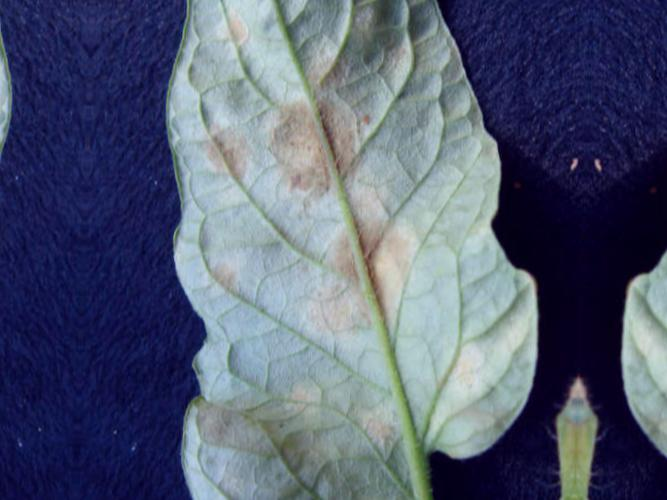Tomato mold leaf: (137, 0, 565, 500)
